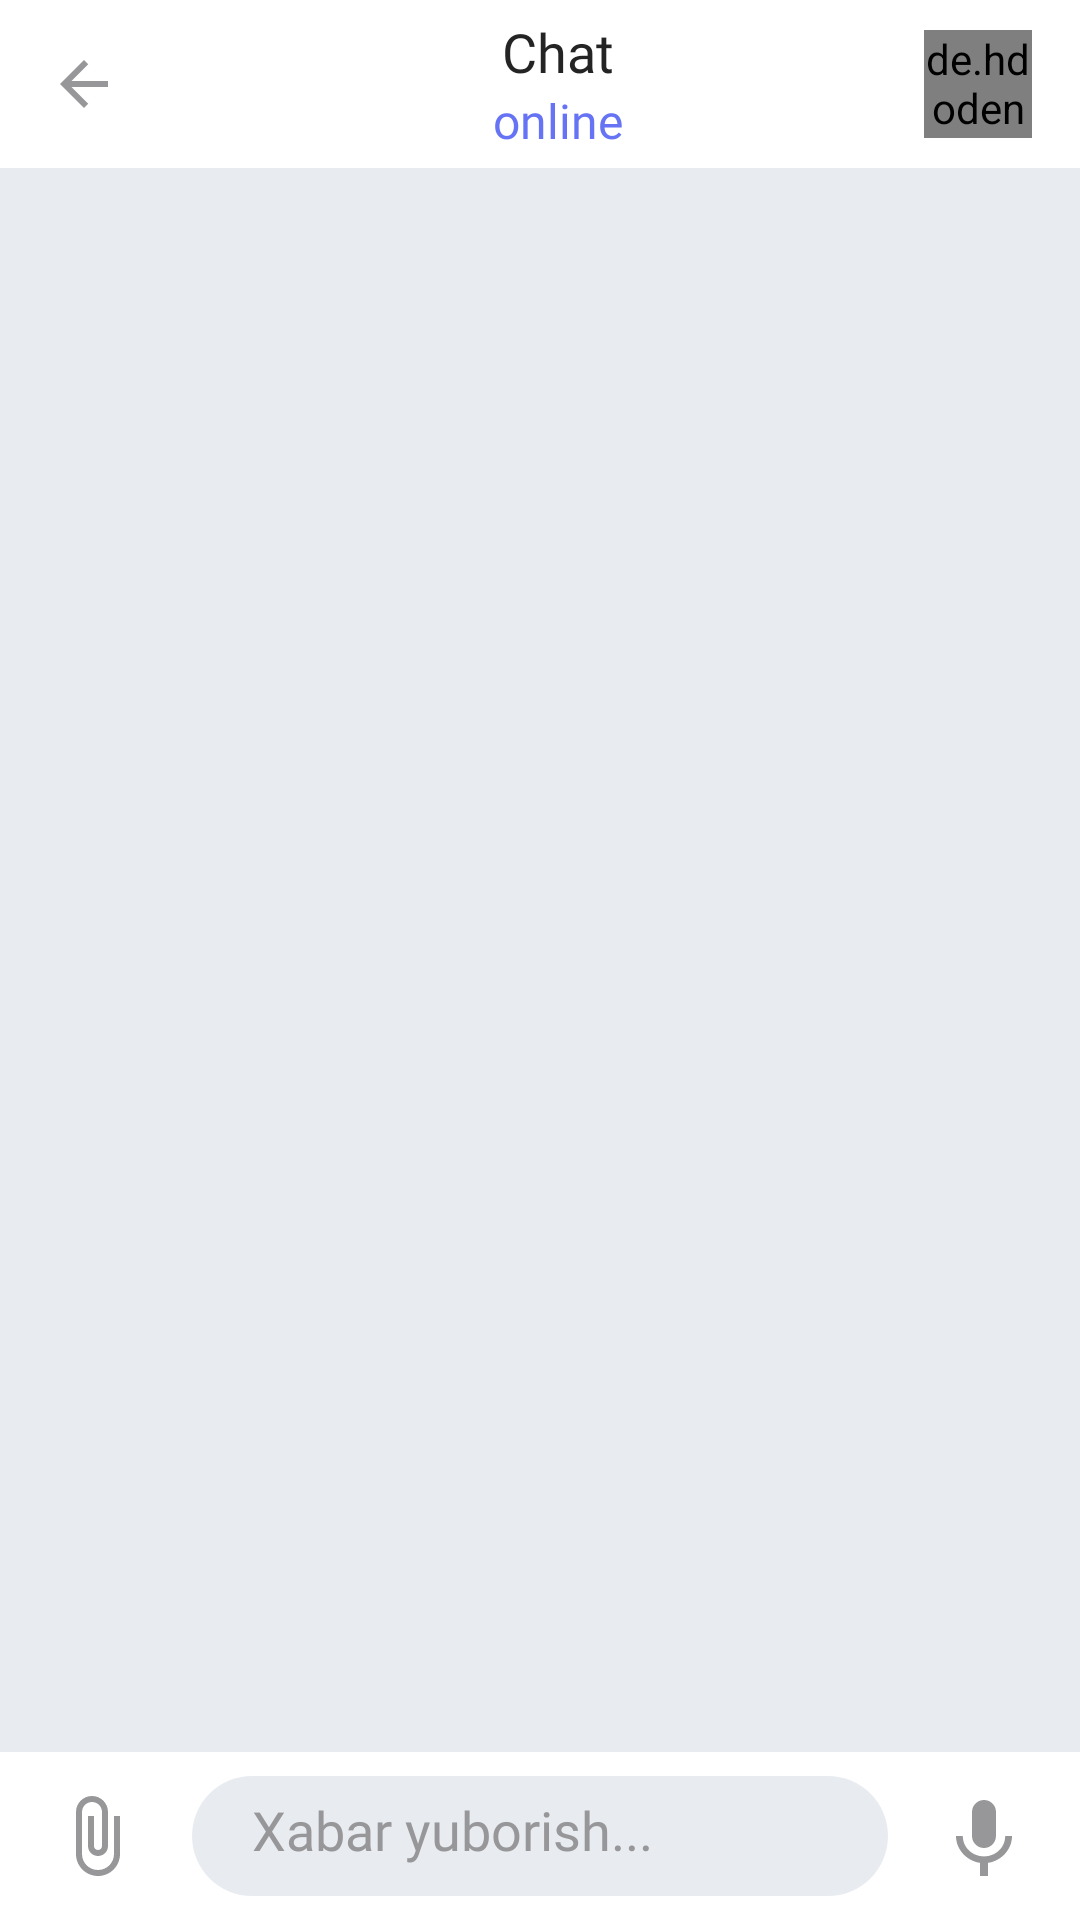

Where icons sit on this 1080 × 1920 app screen, as (x1, y1, x2, y2):
back: (60, 60, 108, 108)
voice: (956, 1800, 1012, 1876)
